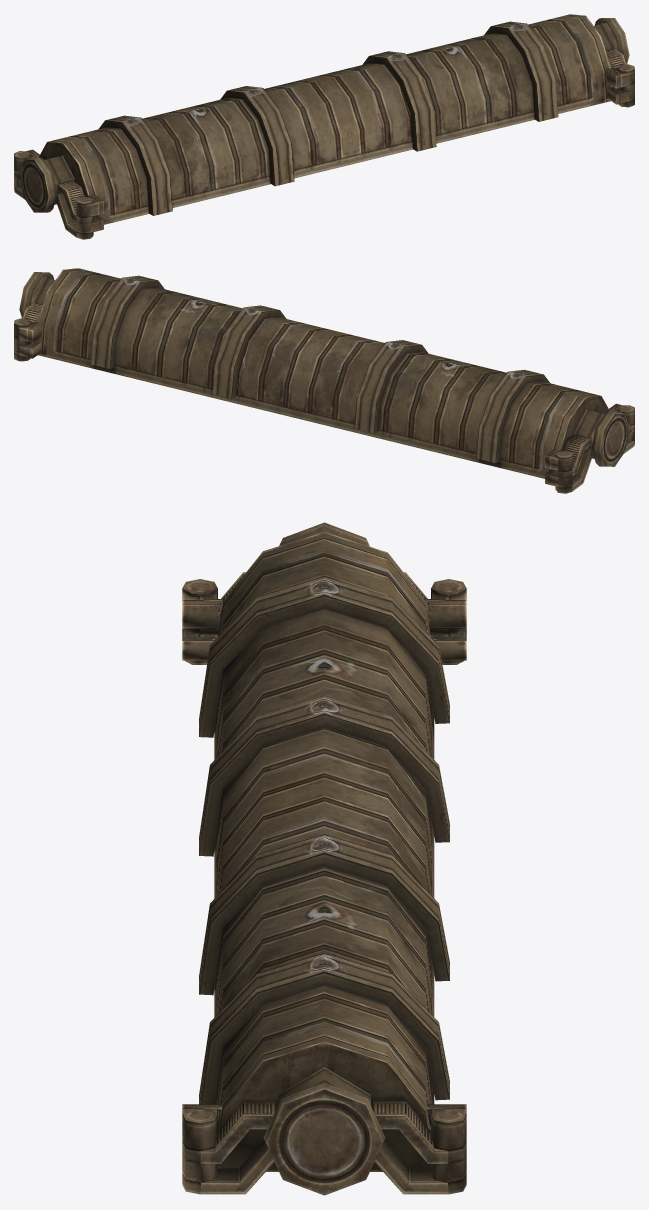
File: 01_03_ceiling_lamp_large_collapsed_floating.dae
3 views of the same model, one above another, from view 1: azimuth 30°, elevation 25°; view 2: azimuth 150°, elevation 25°; view 3: azimuth 270°, elevation 25° (orthographic). The views are drawn at different scales.
Visible parts, largest first — view 1: lamp1; view 2: lamp1; view 3: lamp1.
Part boxes in pixels (left/top/right/bottom): lamp1: left=14, top=14, right=634, bottom=239; lamp1: left=14, top=268, right=634, bottom=493; lamp1: left=182, top=522, right=466, bottom=1195.
Size of the model in its own units: 2.76 by 0.3365 by 0.5859.
